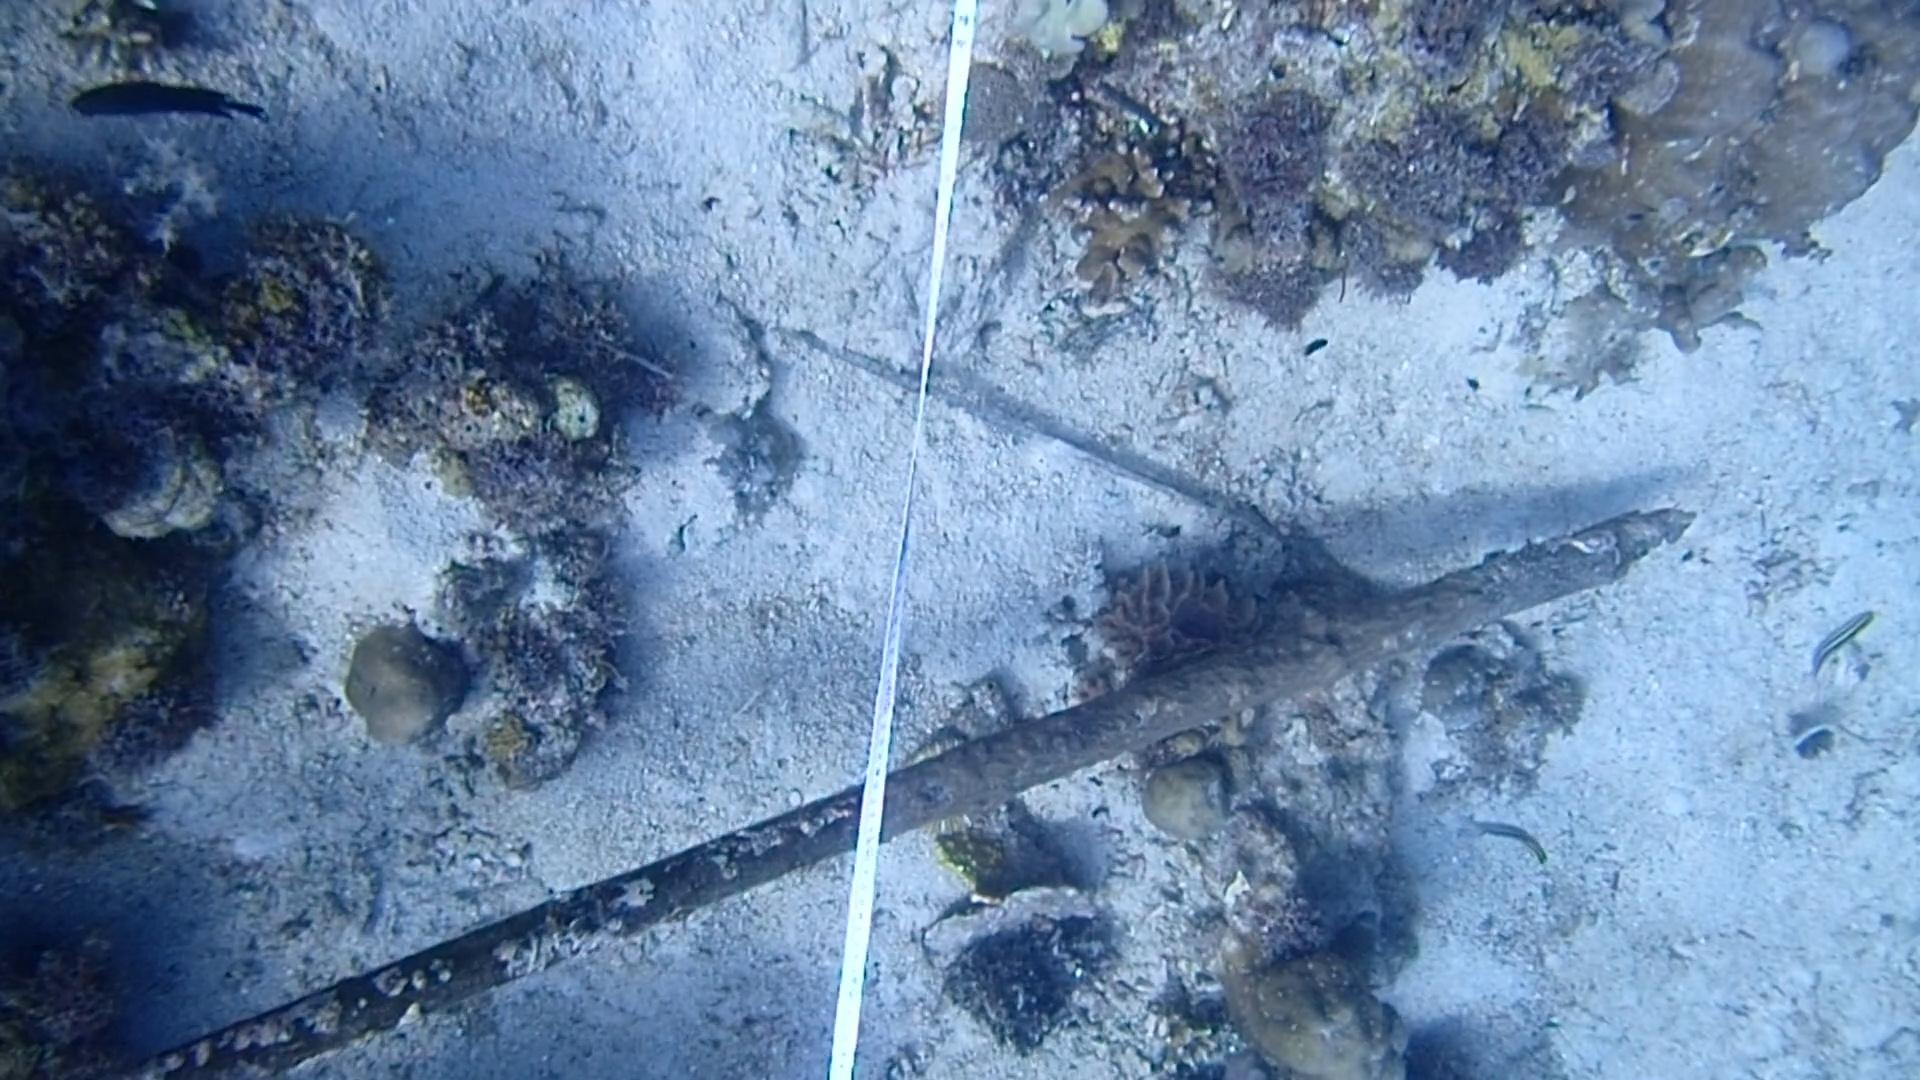Dark Fish: (69, 74, 272, 128)
Striped Fish: (1797, 593, 1882, 686), (1469, 804, 1549, 870)
